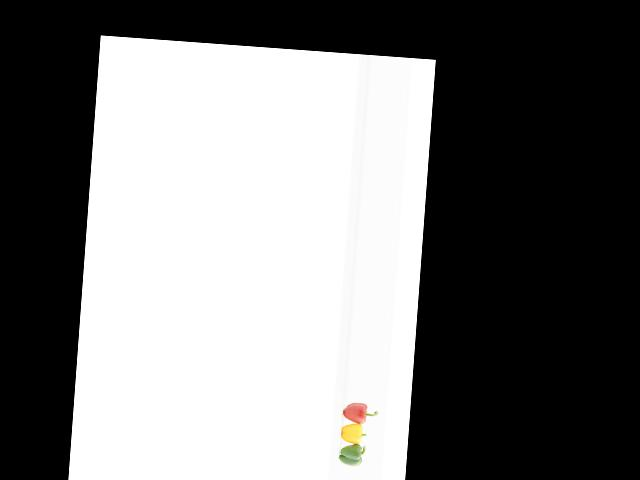bell_pepper: (338, 395, 381, 427)
